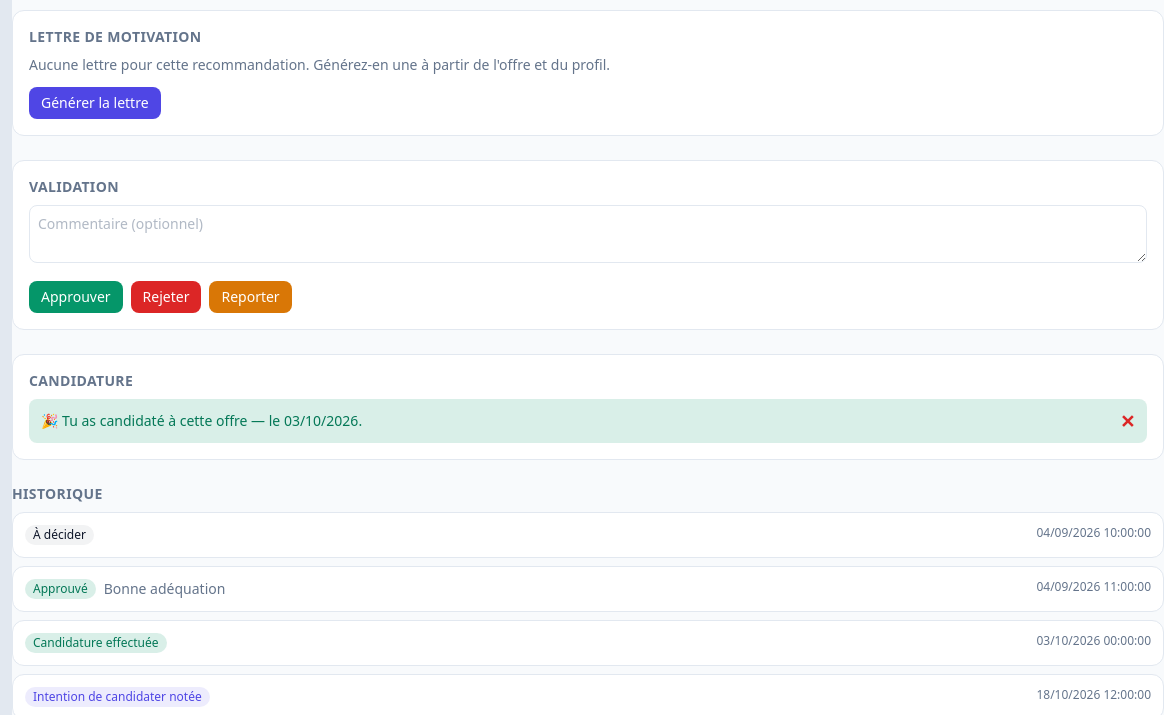
Scenario: RecommendationPage — intention de candidater (OPP-110) › candidaté → « Annuler » repasse à l'intention notée
(page scrolled)
Check: the text "🎉 Tu as candidaté à cette offre — le 03/10/2026." is shown, box [41, 411, 362, 431]
What coordinates should you click on to do the following:
click the button named "Annuler"
I would click on:
 (1127, 421)
Its box is [1120, 412, 1135, 430].
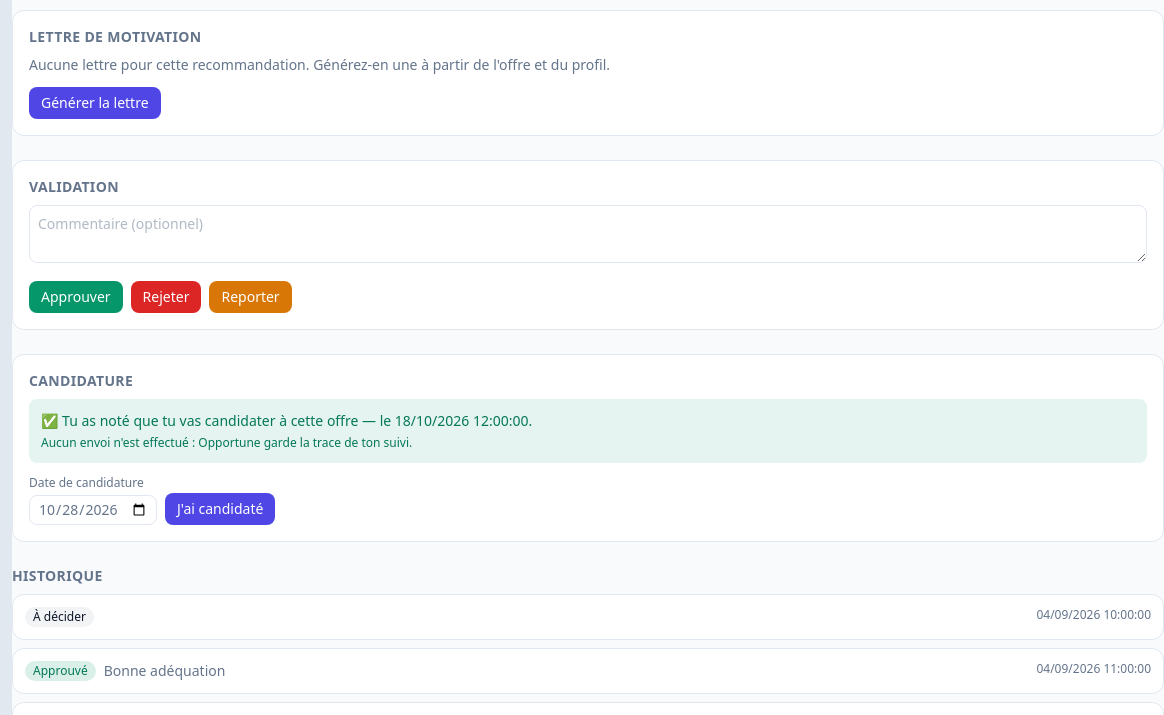
Check: the button "J'ai candidaté" is shown, box [165, 493, 275, 525]
Check: the text "Tu as candidaté à cette offre" is gone
